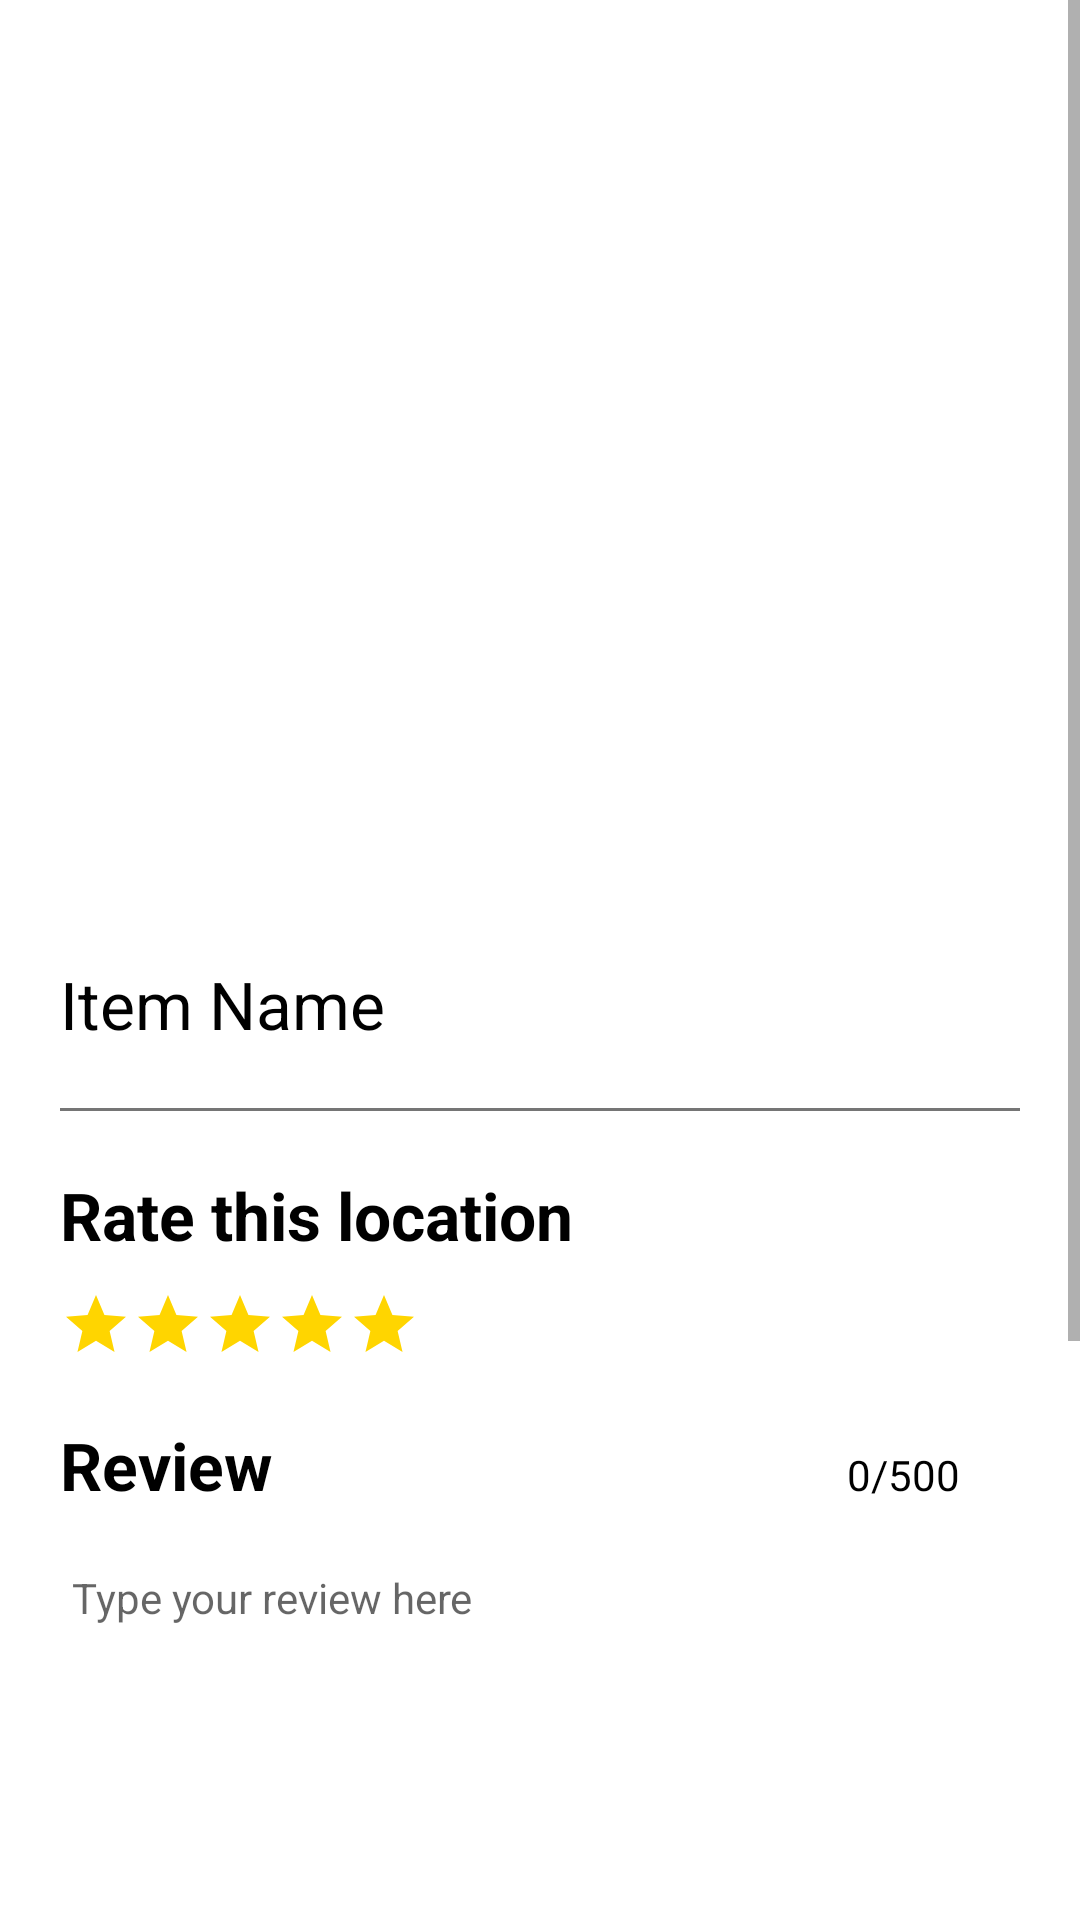

Icon bounding boxes for this 1080 x 1920 phone screenshot, format BBox(x1, y1, x2, y2):
star: BBox(66, 1295, 126, 1352), BBox(138, 1295, 198, 1352), BBox(210, 1295, 270, 1352), BBox(282, 1295, 342, 1352), BBox(354, 1295, 414, 1352)
